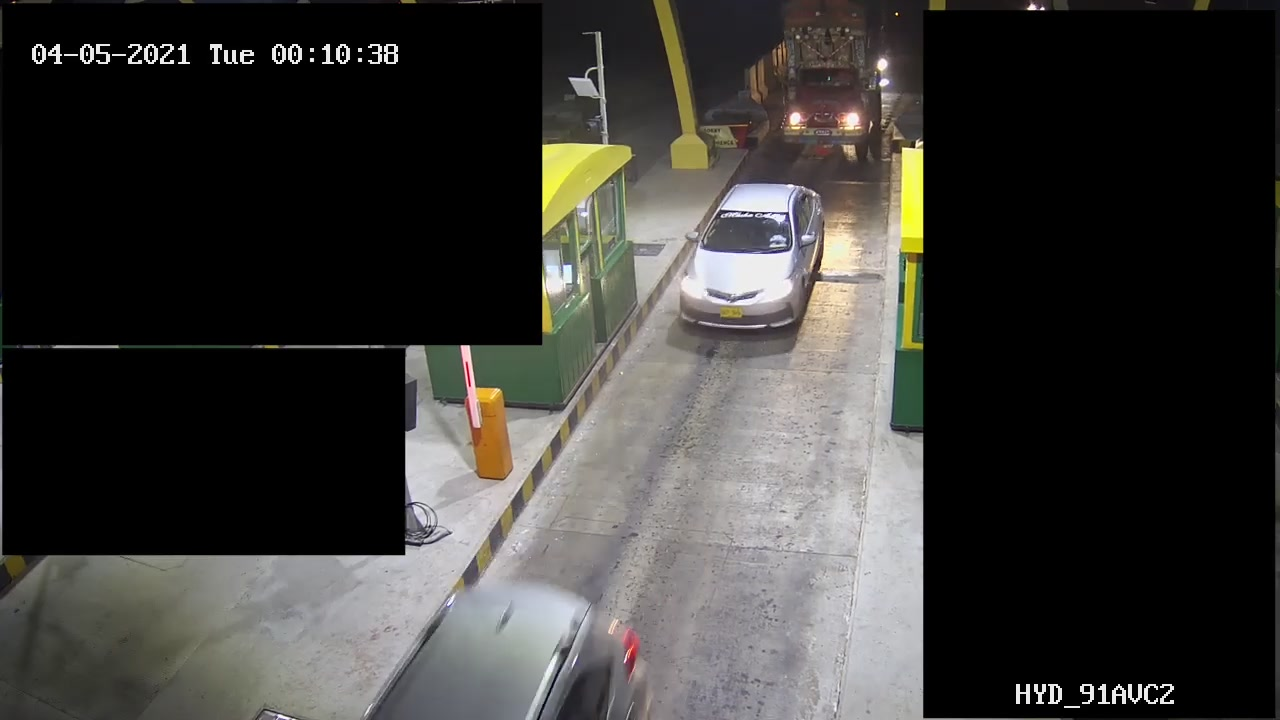F1: (668, 176, 843, 349)
